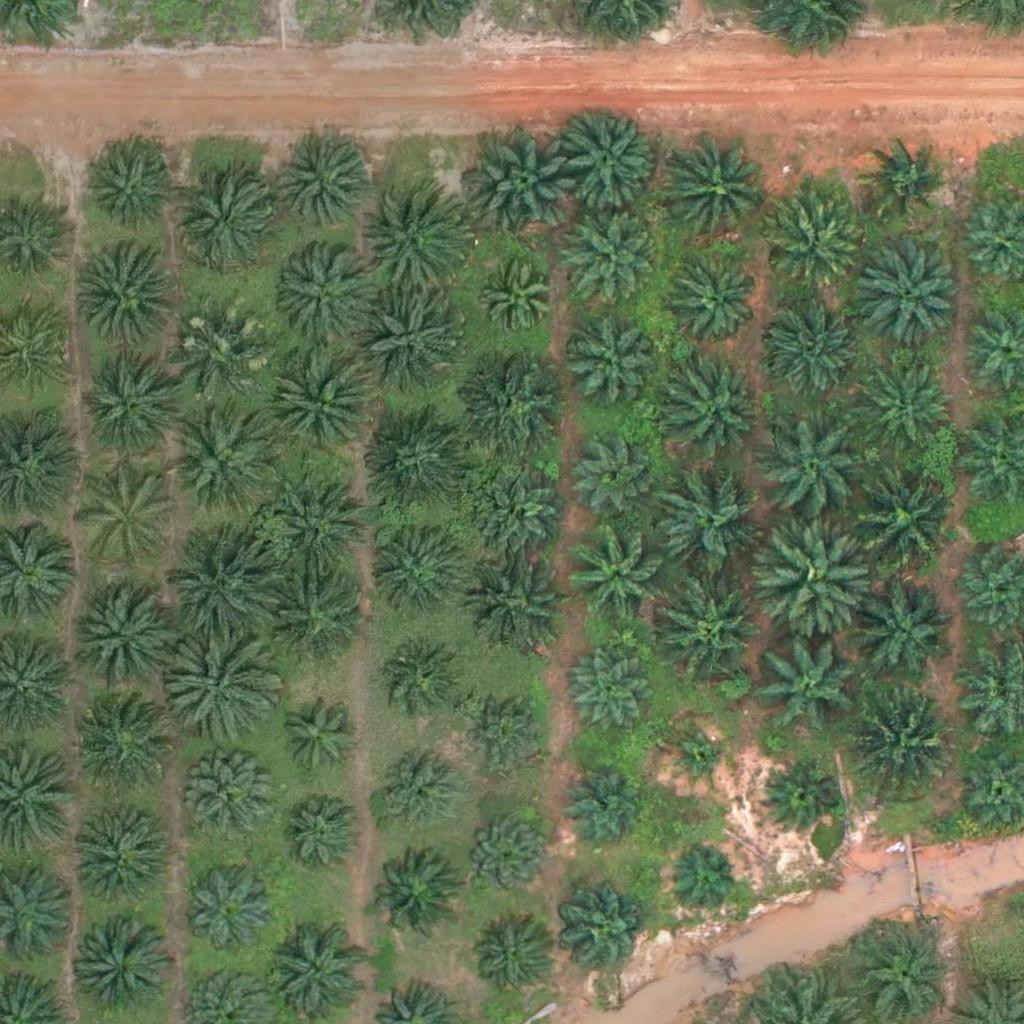Kelapa_Sawit: (658, 354, 771, 468), (453, 350, 566, 463), (764, 520, 877, 633), (166, 628, 278, 742), (166, 536, 278, 650), (471, 130, 583, 244), (763, 414, 875, 528), (76, 578, 188, 691), (360, 181, 472, 294), (357, 289, 469, 402), (365, 402, 477, 515), (657, 464, 769, 577), (656, 566, 768, 679), (759, 629, 871, 742), (852, 235, 964, 348), (852, 460, 964, 573), (850, 681, 962, 794), (77, 244, 177, 345), (74, 468, 174, 569), (69, 698, 169, 799), (73, 813, 173, 914), (74, 921, 174, 1022), (174, 168, 274, 269), (171, 316, 271, 417), (275, 131, 375, 232), (276, 360, 376, 461), (271, 476, 371, 577), (269, 568, 369, 669), (367, 519, 467, 620), (556, 104, 656, 205), (559, 210, 659, 311), (568, 523, 668, 624), (660, 141, 760, 242), (767, 186, 867, 287), (859, 349, 959, 450), (852, 583, 952, 684), (76, 359, 176, 459), (182, 860, 282, 960), (172, 415, 272, 515), (272, 250, 372, 350), (469, 546, 569, 646), (768, 300, 868, 400), (273, 791, 361, 880), (379, 645, 467, 733), (90, 147, 178, 235), (566, 310, 654, 398), (574, 431, 662, 519), (566, 651, 654, 739), (563, 890, 651, 978), (468, 917, 555, 1005), (463, 810, 550, 898), (463, 689, 550, 777), (270, 698, 357, 786), (373, 749, 460, 837), (369, 849, 456, 937), (189, 761, 276, 849), (474, 256, 561, 344), (475, 473, 562, 561), (561, 757, 648, 845), (675, 263, 762, 351), (866, 135, 953, 223), (761, 758, 836, 834), (667, 841, 742, 916), (668, 730, 731, 793)
